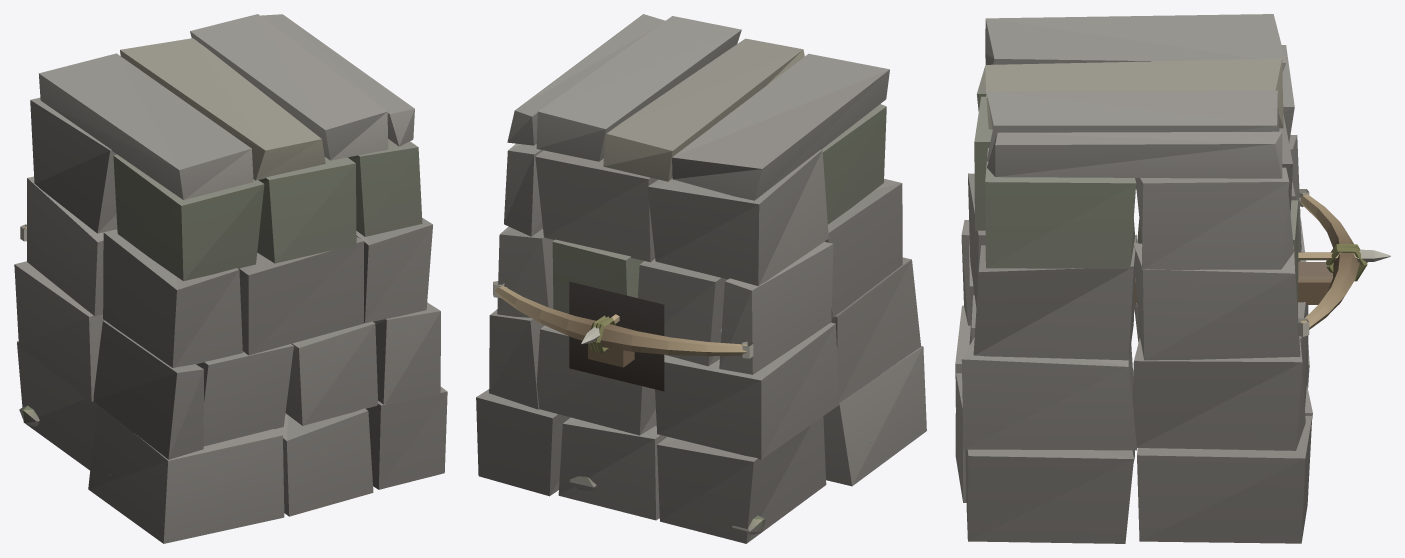
Rendered from wall_crossbow_a.glb.
The picture shows the model from 3 angles, left to right: view 1: azimuth 30°, elevation 25°; view 2: azimuth 150°, elevation 25°; view 3: azimuth 270°, elevation 25°; orthographic projection. The views are drawn at different scales.
Visible parts, largest first — view 1: Base; view 2: Base, Bow; view 3: Base, Bow, Bolt.
Part boxes in pixels (x1=…): Base: x1=14, y1=14, x2=447, y2=543; Base: x1=476, y1=14, x2=926, y2=543; Bow: x1=493, y1=281, x2=753, y2=358; Base: x1=955, y1=14, x2=1339, y2=543; Bow: x1=1297, y1=189, x2=1367, y2=336; Bolt: x1=1298, y1=249, x2=1390, y2=262.
Bounding box in the file's own units: 0.9845 × 1.19 × 1.19.
